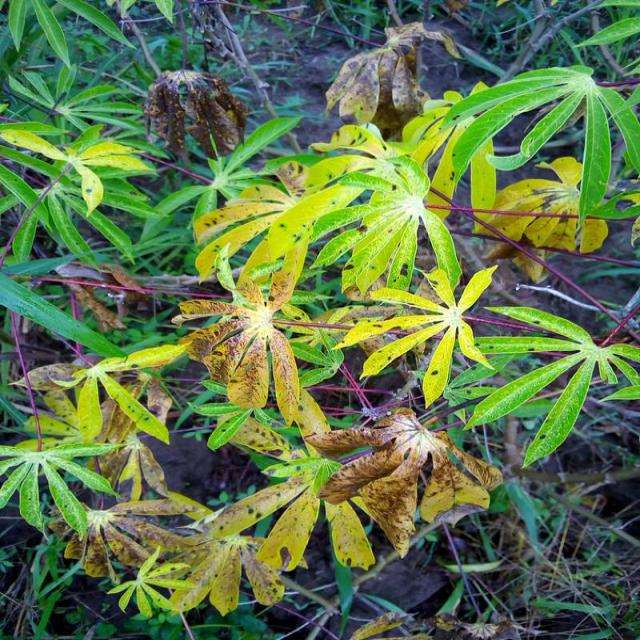cassava leaf: (1, 31, 636, 624)
